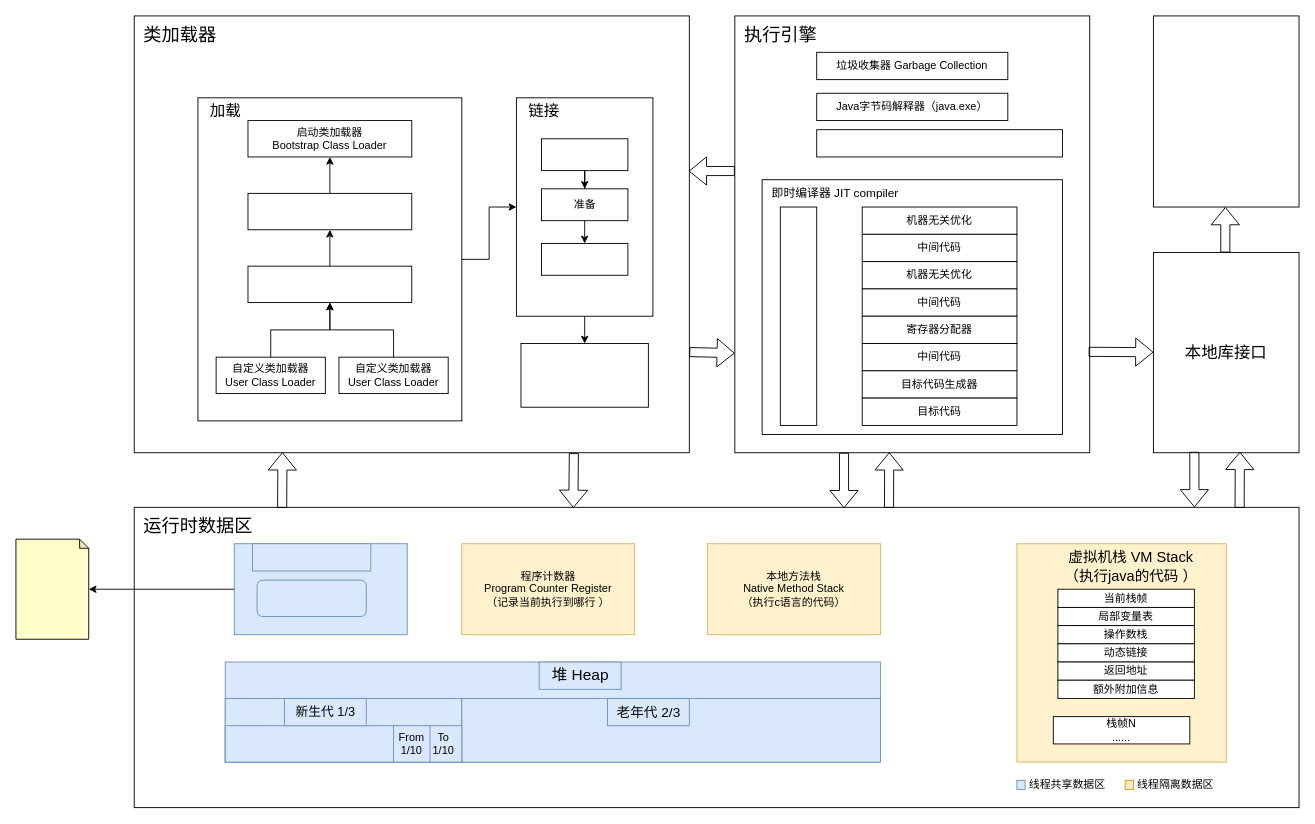
The diagram is 1315 pixels wide and 824 high, and some of its shapes have lost their labels. Each missing label, with the box of its shape:
Eden 8/10: (224, 725, 398, 762)
初始化（clinit）: (520, 343, 648, 407)
字 节 码 解 释 器: (779, 206, 817, 425)
应用程序类加载器 Application Class Loader: (247, 265, 412, 303)
扩展类加载器 Extension Class Loader: (247, 192, 412, 230)
方法区 Method Area: (252, 543, 371, 571)
方法区（元数据区）用于存放类信息、编译时的代码信息等: (15, 538, 89, 639)
本地方法库: (1153, 15, 1299, 207)
符号表: (816, 129, 1062, 157)
解析: (541, 243, 628, 275)
运行时常量池: (256, 579, 366, 617)
验证: (541, 138, 628, 171)
